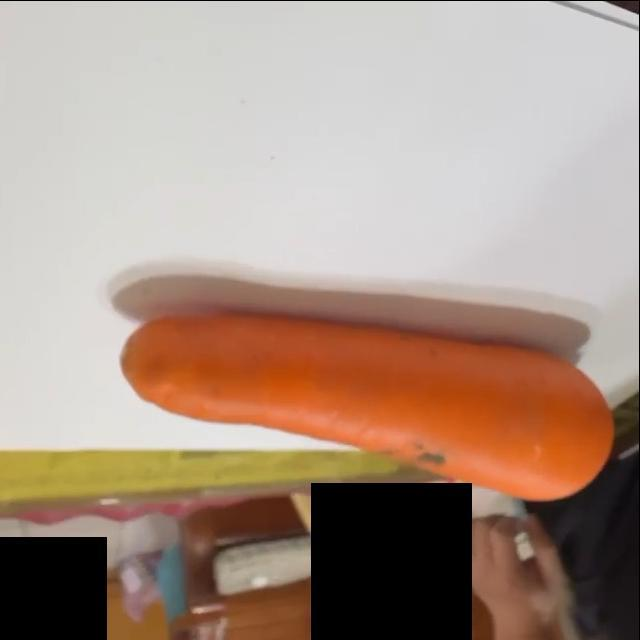carrot: (119, 310, 619, 504)
